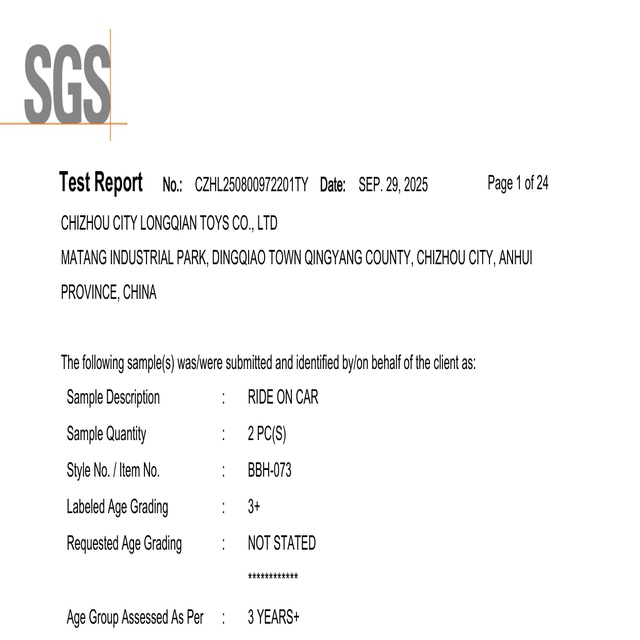sgs: (26, 43, 112, 123)
